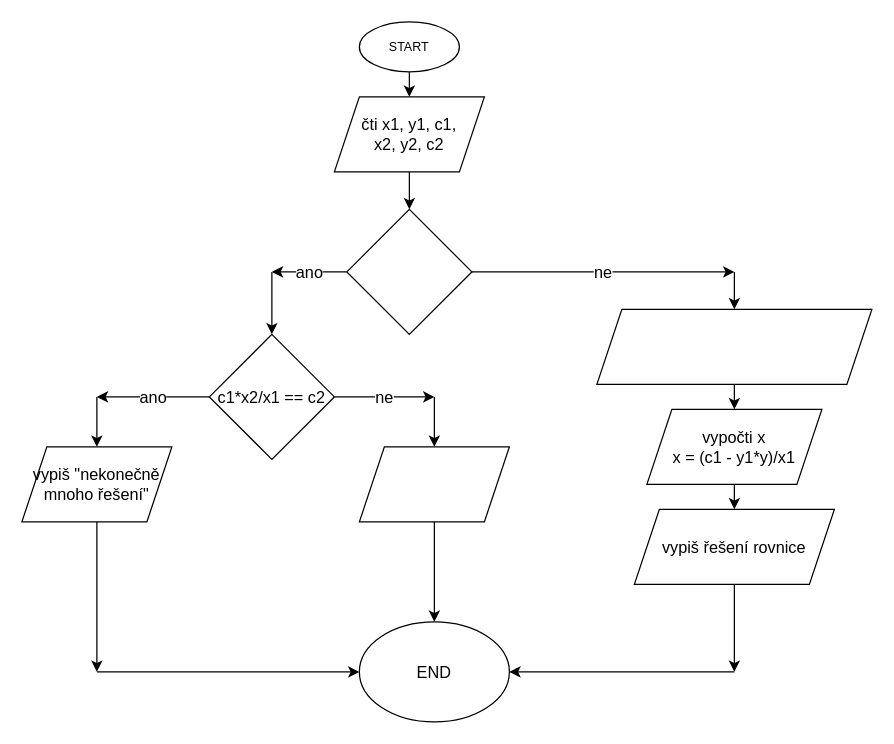
Some shapes in this 894 by 744 pixel diagram are drawn without their labels. Here are the shapes that lost their labels. From the top down, the box of each, then its label:
(346, 208, 472, 334): x1/x2 == y1/y2
(596, 308, 872, 384): vypočti y y = (x2c1 - x1c2)/(x2y1 - x1y2)
(358, 446, 509, 522): vypiš "soustava nemá řešení"
